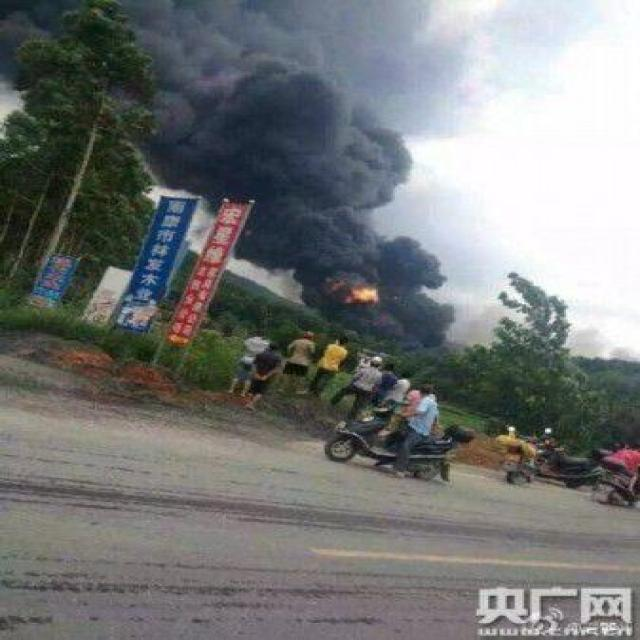Fire: (344, 284, 378, 304)
Smoke: (2, 1, 456, 353)
